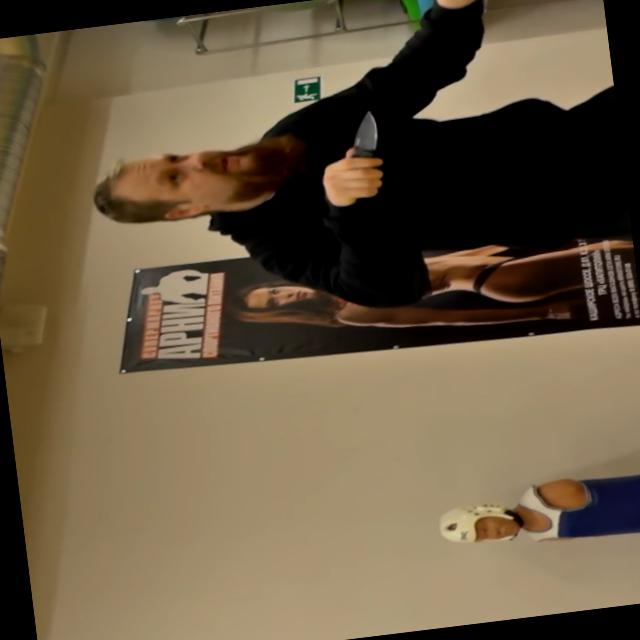knife: (310, 104, 390, 192)
